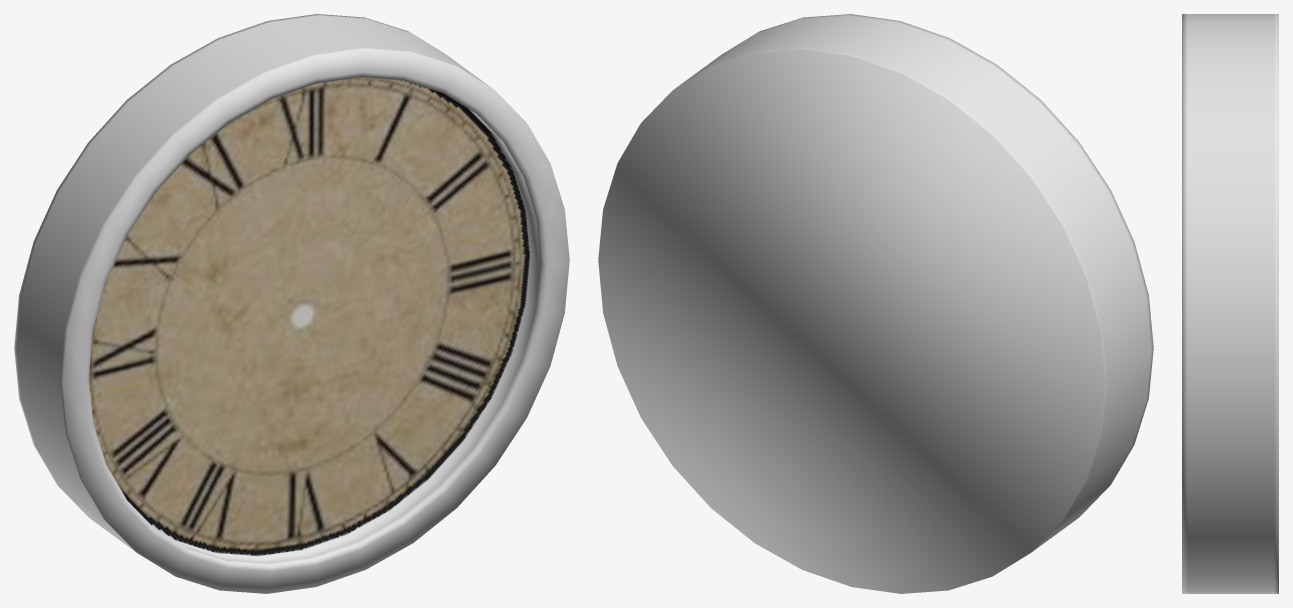
The model's file is Clock.glb.
3 renders of one model, left to right at view 1: azimuth 30°, elevation 25°; view 2: azimuth 150°, elevation 25°; view 3: azimuth 270°, elevation 25°, orthographic.
Parts seen in each view (by area): view 1: Clock; view 2: Clock; view 3: Clock.
Boxes of the visible parts, x1,y1,x2,y2 form: Clock: (14,14,569,593); Clock: (598,14,1153,593); Clock: (1182,14,1278,593).
Bounding box in the file's own units: 0.4572 × 0.4572 × 0.0762.
3 materials, 3 textured.
